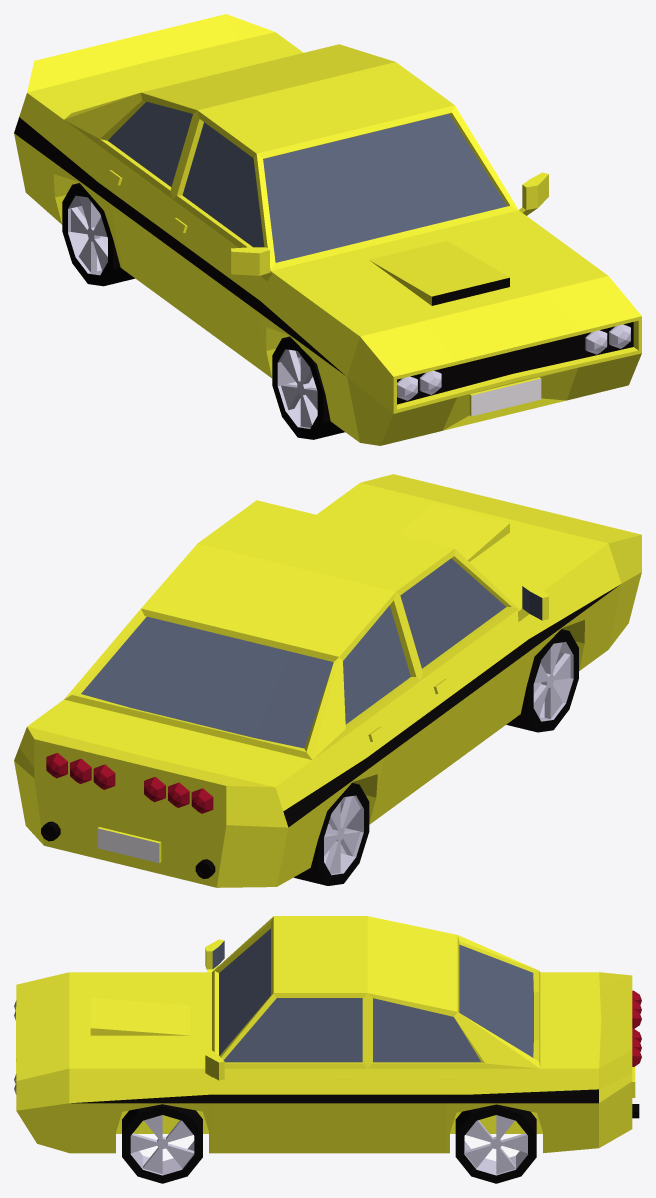
The model's file is models-trip-vehicle.glb.
3 renders of one model, top to bottom at view 1: azimuth 30°, elevation 25°; view 2: azimuth 150°, elevation 25°; view 3: azimuth 270°, elevation 25°, orthographic. The views are drawn at different scales.
Visible parts, largest first — view 1: Muscle, Muscle wheel front right, Muscle wheel rear right; view 2: Muscle, Muscle wheel front right, Muscle wheel rear right; view 3: Muscle, Muscle wheel front left, Muscle wheel rear left.
Part boxes in pixels (x1,y1,x2,y2): Muscle: [14, 14, 641, 445]; Muscle wheel front right: [272, 336, 344, 439]; Muscle wheel rear right: [62, 183, 134, 286]; Muscle: [14, 474, 641, 887]; Muscle wheel front right: [506, 629, 578, 732]; Muscle wheel rear right: [294, 783, 369, 885]; Muscle: [14, 916, 641, 1153]; Muscle wheel front left: [122, 1104, 202, 1183]; Muscle wheel rear left: [455, 1104, 536, 1183].
Bounding box in the file's own units: 2.81 × 1.91 × 6.06.
